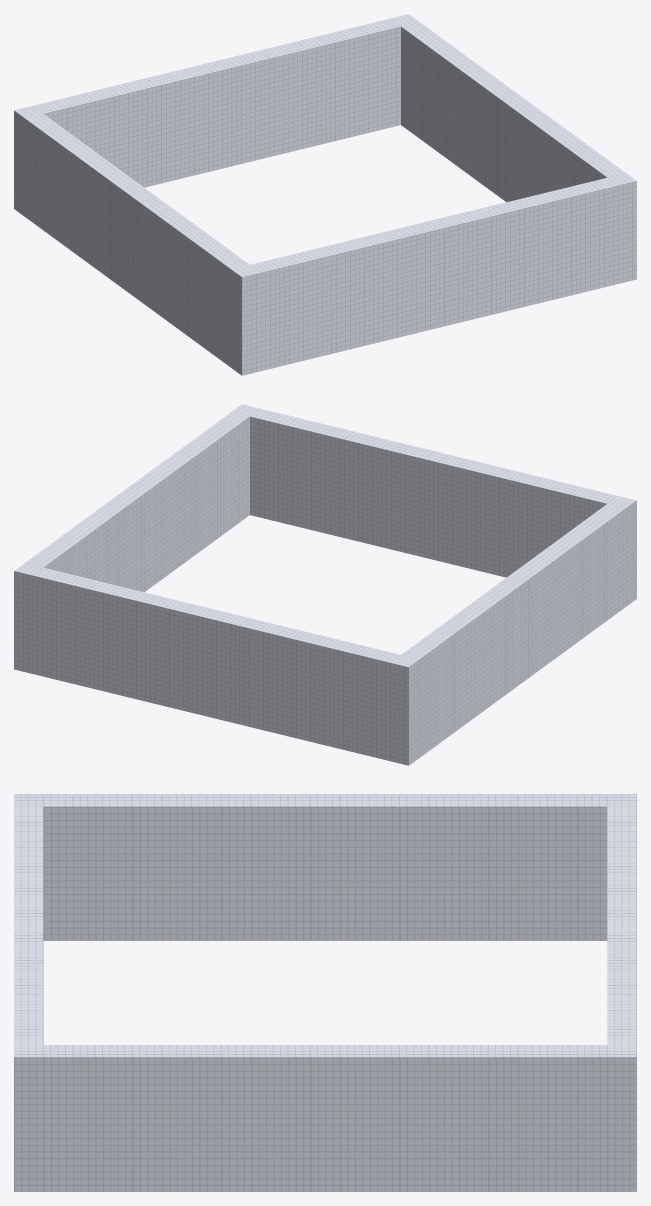
File: room_01.glb
3 renders of one model, top to bottom at view 1: azimuth 30°, elevation 25°; view 2: azimuth 150°, elevation 25°; view 3: azimuth 270°, elevation 25°, orthographic. The views are drawn at different scales.
Parts seen in each view (by area): view 1: mergedBlocks(Clone); view 2: mergedBlocks(Clone); view 3: mergedBlocks(Clone).
Part boxes in pixels (x1,y1,x2,y2): mergedBlocks(Clone): [14, 14, 636, 375]; mergedBlocks(Clone): [14, 404, 636, 765]; mergedBlocks(Clone): [14, 794, 636, 1191].
Size of the model in its own units: 21 by 5 by 21.
Materials: 1 (1 with a texture image).
